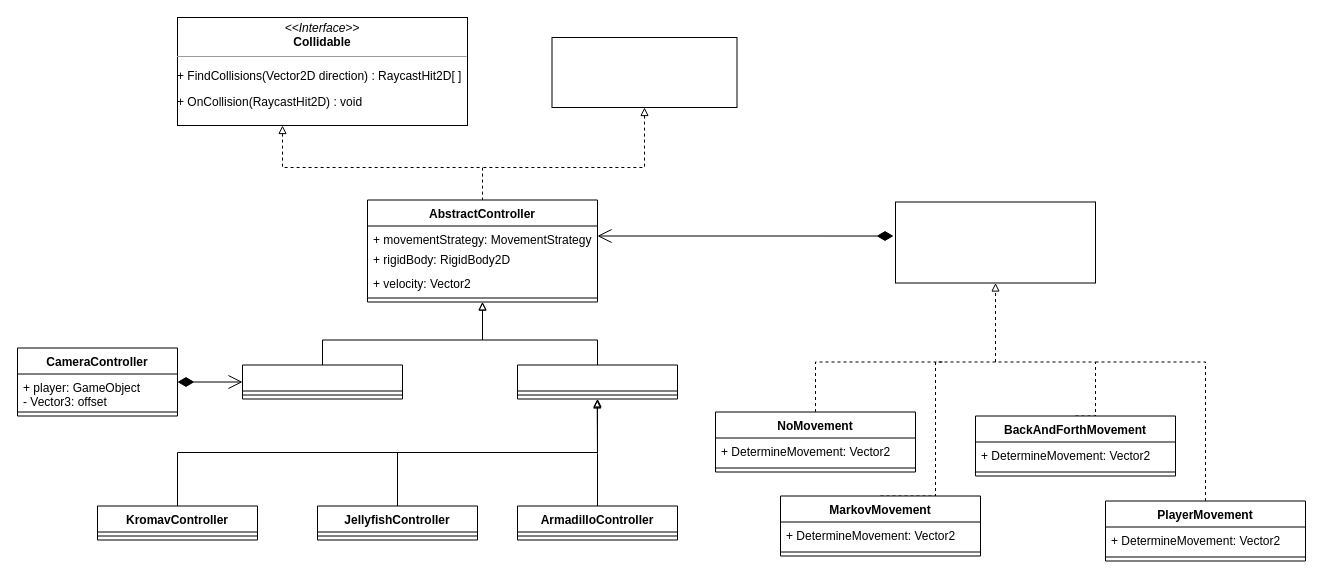
Some shapes in this 1323 by 579 pixel diagram are drawn without their labels. The shapes that lost their labels are listed below. From the top down, each one's centre as x and y in pixels, then its label:
pixel 644 72: <<Interface>> Movable + Move(Vector2 direction): void
pixel 995 242: <<Interface>> MovementStrategy + DetermineMovement(): Vector2
pixel 322 381: PlayerController
pixel 597 381: EnemyController
